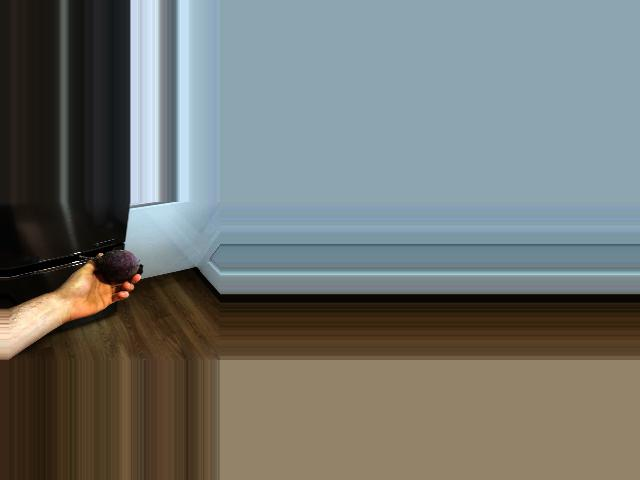beet: (80, 250, 143, 280)
